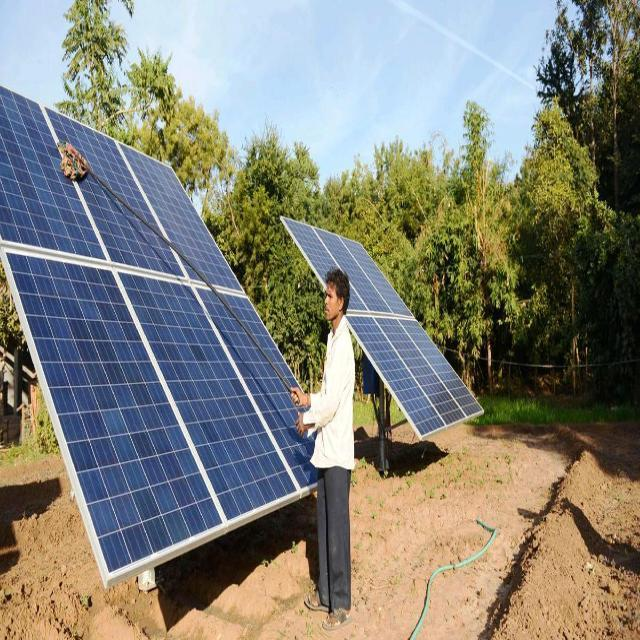no faulty: (4, 248, 222, 592), (206, 288, 319, 523), (119, 143, 244, 295), (1, 85, 98, 274), (343, 320, 445, 451), (396, 308, 486, 419), (280, 214, 366, 316)
